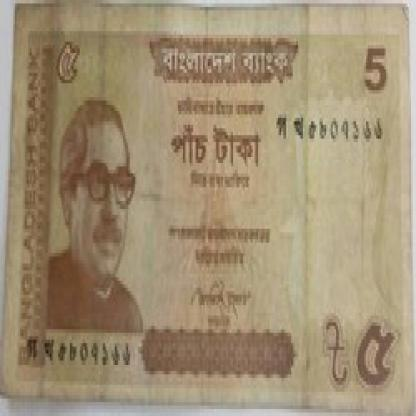Five Taka: (356, 316, 394, 402), (53, 28, 82, 100), (358, 35, 389, 97)
